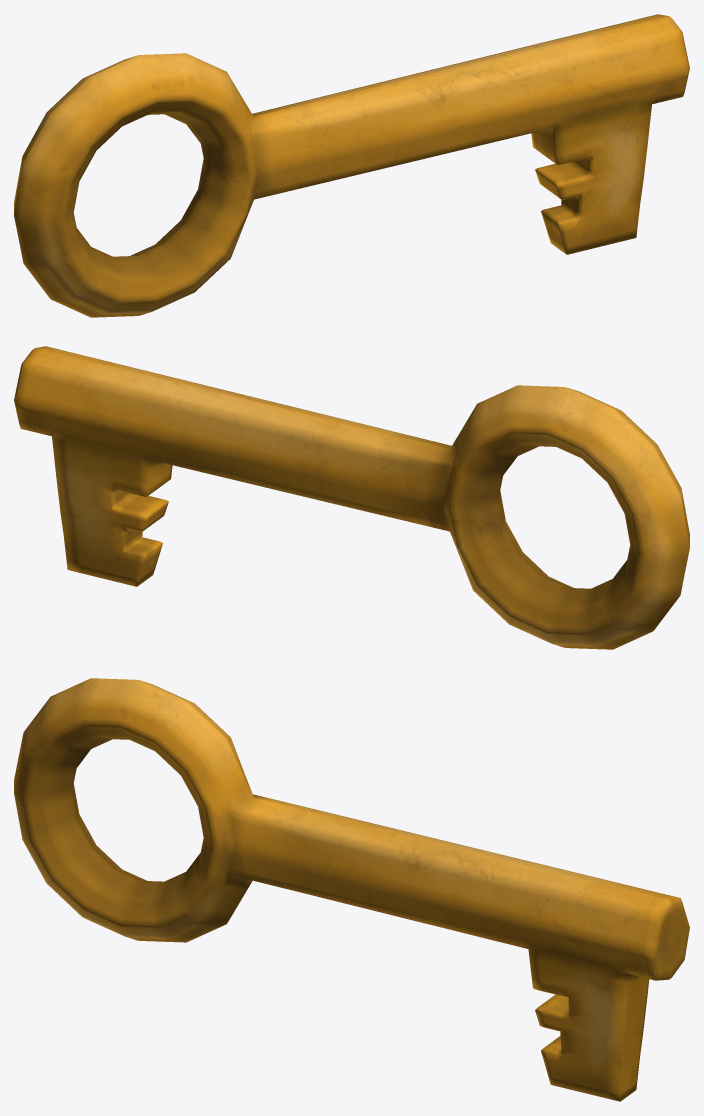
Rendered from chave.fbx.
3 views of the same model, one above another, from view 1: azimuth 30°, elevation 25°; view 2: azimuth 150°, elevation 25°; view 3: azimuth 330°, elevation 25° (orthographic).
Parts seen in each view (by area): view 1: Cylinder.002; view 2: Cylinder.002; view 3: Cylinder.002.
Boxes of the visible parts, <box> form: Cylinder.002: <box>14,14,689,317</box>; Cylinder.002: <box>14,346,689,649</box>; Cylinder.002: <box>14,678,689,1101</box>.
Size of the model in its own units: 61.8 by 26.6 by 6.34.
